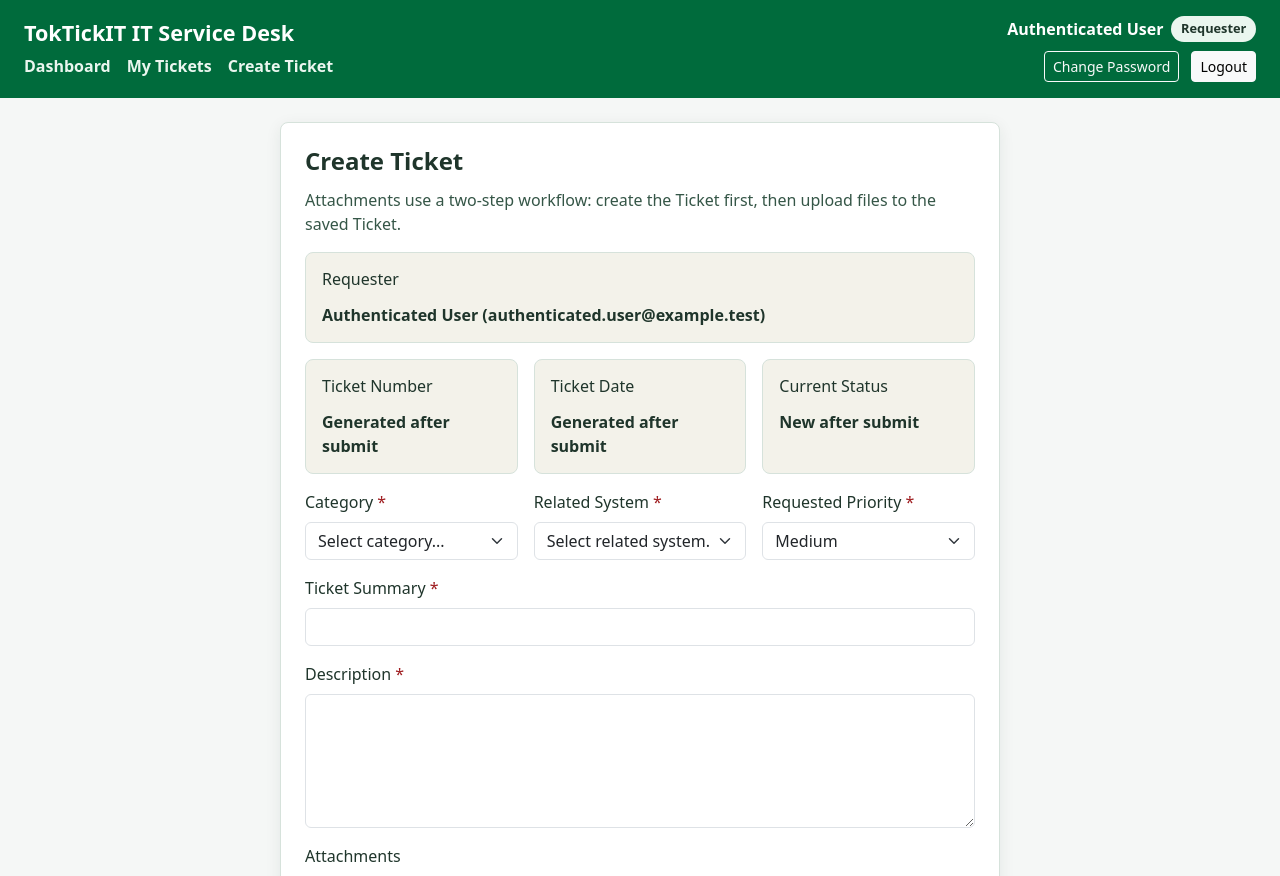
it: Lab 3 authenticated application shell › UI-03 logs out with credentials and CSRF, then removes authenticated shell access
This screenshot has width=1280, height=876.
Click the button "Logout": coordinates (1224, 67) [1191,51,1256,82]
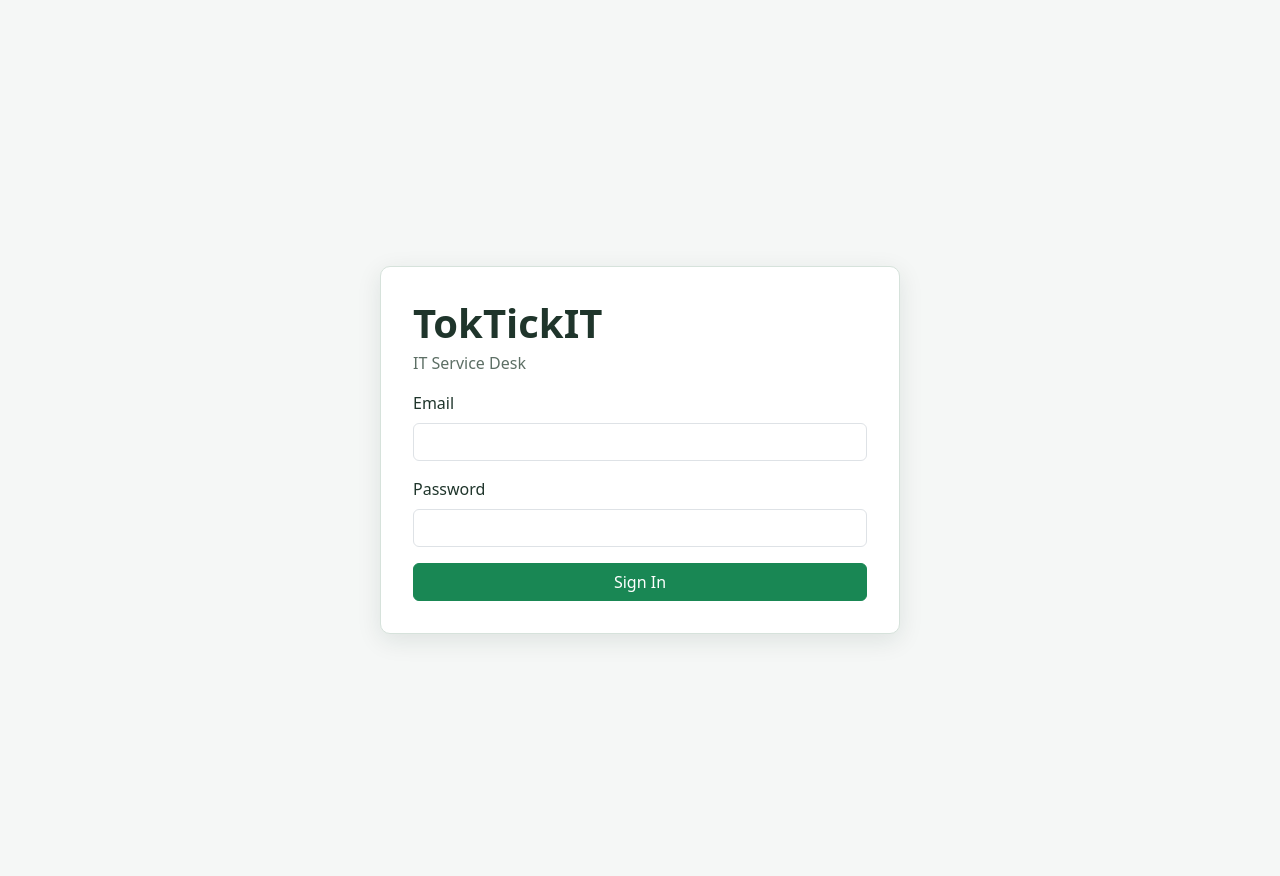
Check: the button "Sign In" is shown, box [413,563,867,601]
Check: the text "Authenticated User" is gone
